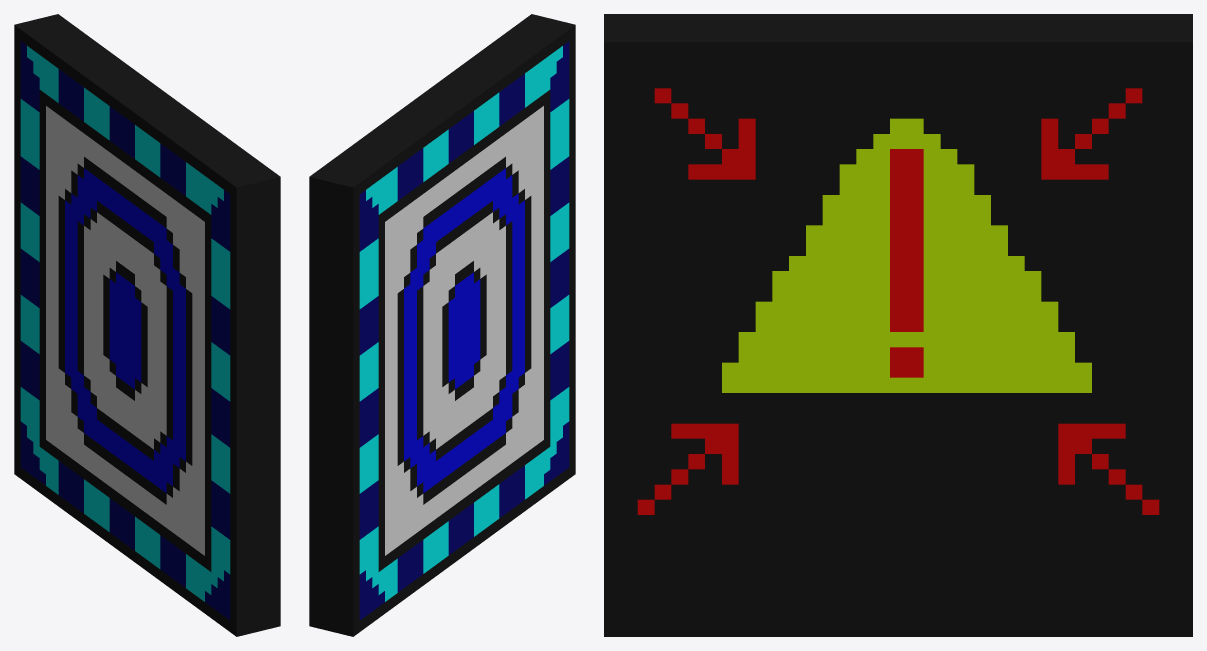
The model's file is Enter_Portal.obj.
3 views of the same model, side by side, from view 1: azimuth 30°, elevation 25°; view 2: azimuth 150°, elevation 25°; view 3: azimuth 270°, elevation 25° (orthographic). The views are drawn at different scales.
Size of the model in its own units: 0.4 by 3.9 by 3.5.
Materials: 1 (1 with a texture image).
